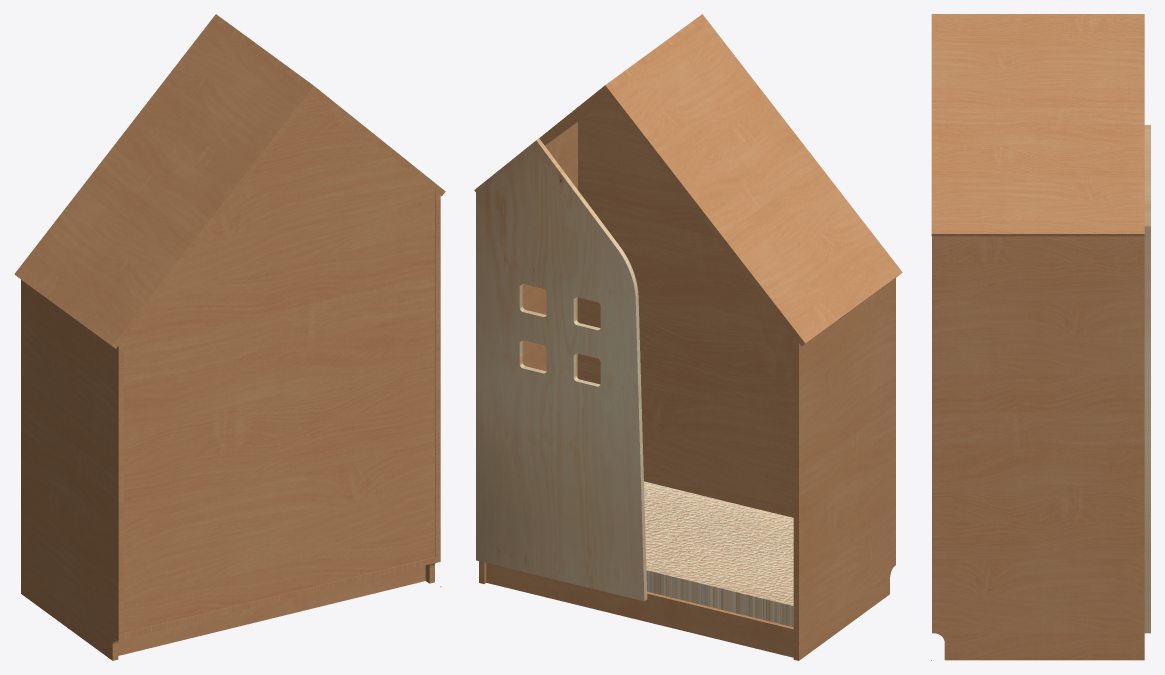
File: zona_dlja_otdyha.glb
3 views of the same model, side by side, from view 1: azimuth 30°, elevation 25°; view 2: azimuth 150°, elevation 25°; view 3: azimuth 270°, elevation 25° (orthographic). The views are drawn at different scales.
Parts seen in each view (by area): view 1: Shape_IndexedFaceSet, Shape_IndexedFaceSet.002, Shape_IndexedFaceSet.007, Shape_IndexedFaceSet.009, Shape_IndexedFaceSet.006, Shape_IndexedFaceSet.008, Shape_IndexedFaceSet.001; view 2: Shape_IndexedFaceSet.005_FAN, Shape_IndexedFaceSet, Shape_IndexedFaceSet.002, Shape_IndexedFaceSet.007, Shape_IndexedFaceSet.004_NON, Shape_IndexedFaceSet.010, Shape_IndexedFaceSet.006, Shape_IndexedFaceSet.001, Shape_IndexedFaceSet.003, Shape_IndexedFaceSet.008; view 3: Shape_IndexedFaceSet.006, Shape_IndexedFaceSet.001, Shape_IndexedFaceSet.005_FAN.
Part boxes in pixels (x1,y1,x2,y2): Shape_IndexedFaceSet: (124, 94, 434, 632); Shape_IndexedFaceSet.002: (14, 19, 313, 348); Shape_IndexedFaceSet.007: (21, 279, 123, 660); Shape_IndexedFaceSet.009: (118, 565, 425, 655); Shape_IndexedFaceSet.006: (425, 191, 440, 583); Shape_IndexedFaceSet.008: (124, 557, 435, 638); Shape_IndexedFaceSet.001: (212, 14, 445, 196); Shape_IndexedFaceSet.005_FAN: (476, 138, 647, 601); Shape_IndexedFaceSet: (578, 97, 793, 517); Shape_IndexedFaceSet.002: (605, 19, 902, 346); Shape_IndexedFaceSet.007: (793, 278, 895, 660); Shape_IndexedFaceSet.004_NON: (644, 481, 793, 627); Shape_IndexedFaceSet.010: (486, 563, 793, 657); Shape_IndexedFaceSet.006: (479, 122, 577, 583); Shape_IndexedFaceSet.001: (474, 14, 705, 191); Shape_IndexedFaceSet.003: (758, 291, 793, 370); Shape_IndexedFaceSet.008: (647, 591, 793, 634); Shape_IndexedFaceSet.006: (932, 236, 1144, 660); Shape_IndexedFaceSet.001: (931, 14, 1144, 236); Shape_IndexedFaceSet.005_FAN: (1144, 125, 1150, 633).
Size of the model in its own units: 984 by 1501 by 516.
Materials: 13 (12 with a texture image).
